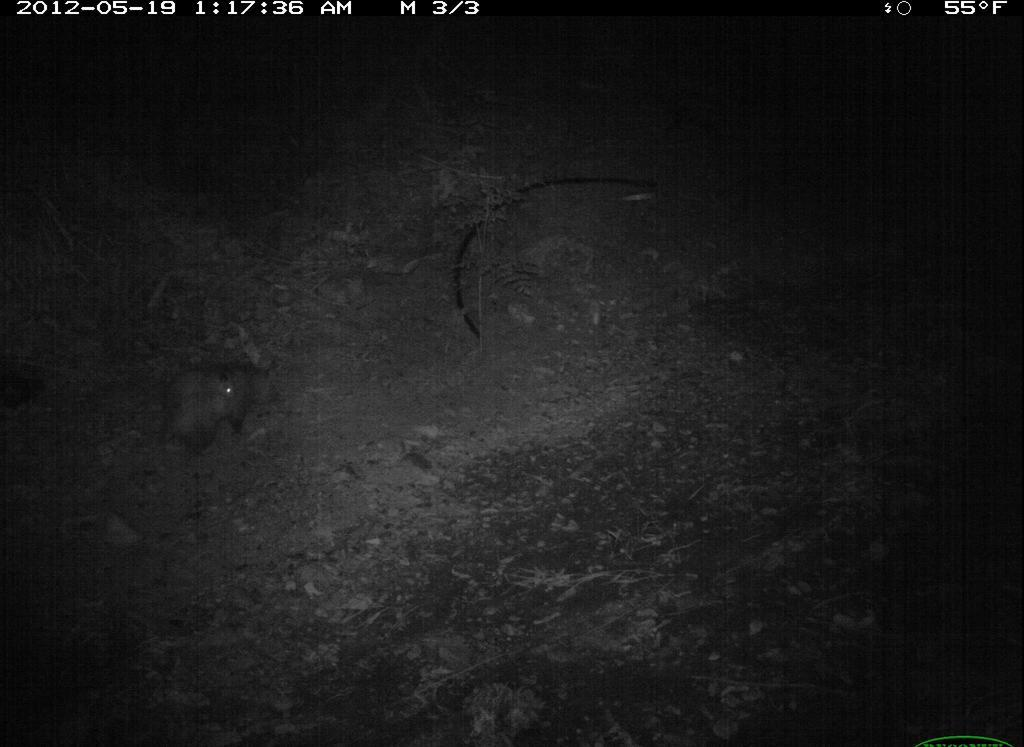opossum: (120, 338, 289, 464)
